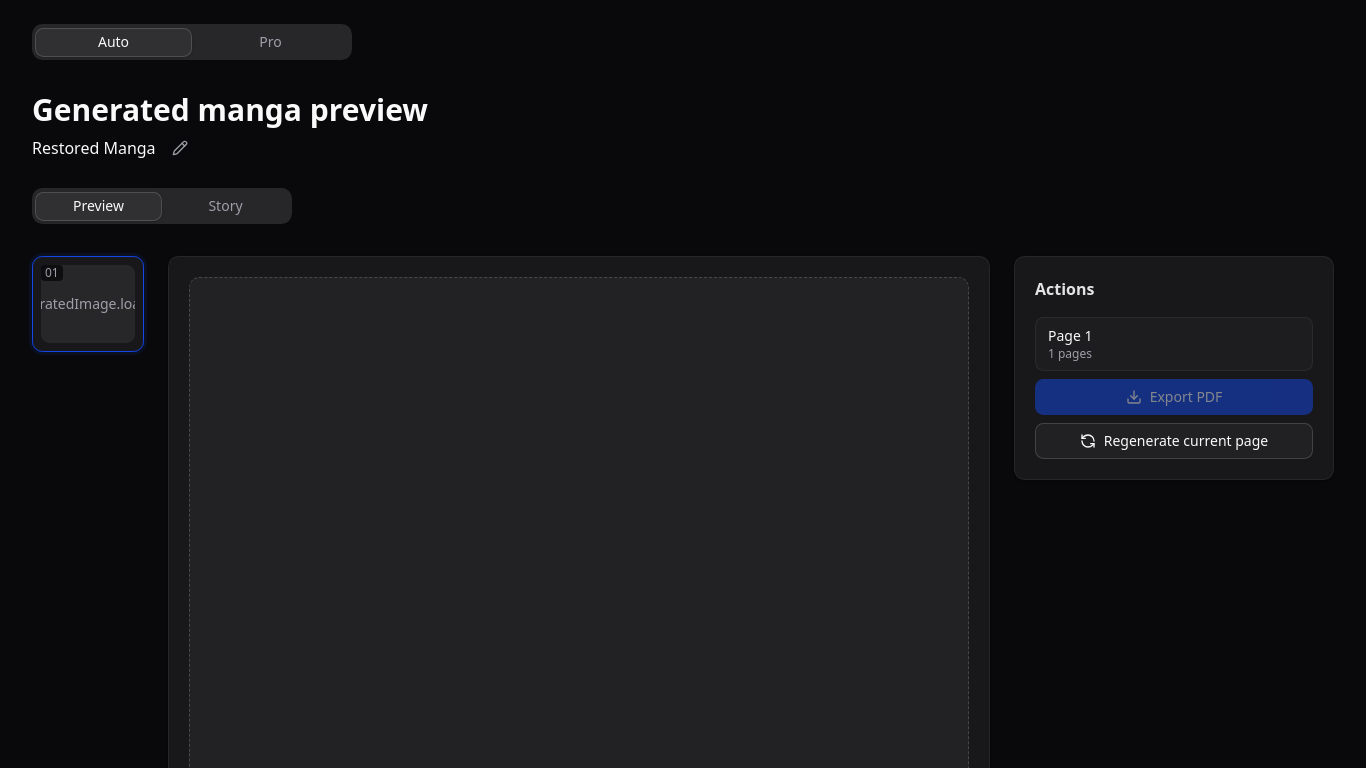
Test: ComicsPage mode shell › shows Auto preview for a restored comic with rendered pages even without an Auto run record
Check: the heading "Generated manga preview" is shown, box [32, 92, 428, 128]
Click the tab "Story": {"x": 226, "y": 206} [162, 192, 289, 220]
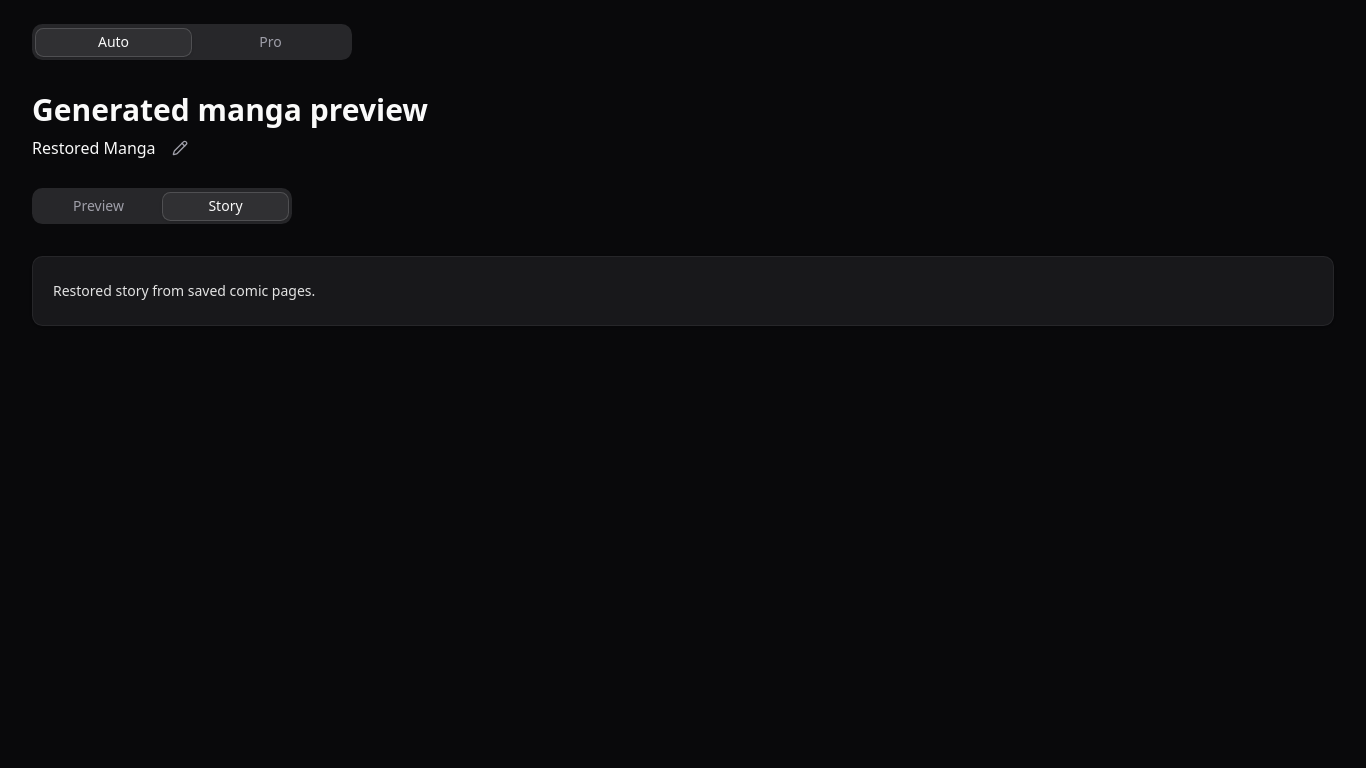
Check: the text "Restored story from saved comic pages." is shown, box [53, 281, 315, 300]
